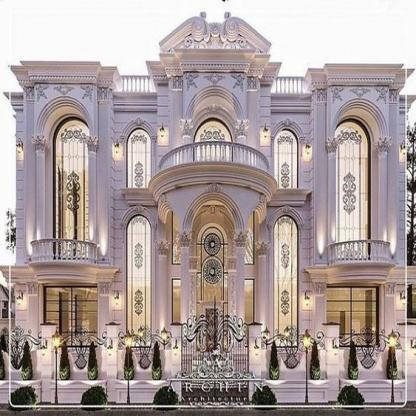Balcony: (157, 141, 269, 174), (30, 239, 99, 264), (327, 240, 390, 265), (120, 76, 155, 92), (271, 77, 307, 92)
Building Outline: (1, 11, 416, 391)
Cornice: (146, 50, 282, 74), (309, 63, 415, 80), (7, 61, 117, 75), (269, 118, 305, 144), (268, 205, 304, 231), (113, 92, 157, 111), (120, 118, 156, 140), (120, 205, 156, 227), (270, 93, 311, 112), (2, 92, 24, 112), (400, 94, 415, 115)
Deco: (158, 11, 272, 54), (203, 73, 226, 86), (78, 85, 94, 103), (229, 73, 245, 91), (349, 87, 372, 99), (374, 87, 389, 105), (330, 86, 344, 105), (35, 84, 49, 103), (184, 72, 198, 91), (53, 84, 75, 95)
Door: (201, 302, 224, 349)
Facade: (1, 11, 415, 387)
Glass Wall: (332, 122, 367, 259), (56, 121, 91, 258), (197, 223, 228, 349), (127, 216, 151, 346), (274, 217, 297, 347), (47, 288, 97, 345), (327, 288, 376, 345), (194, 121, 232, 177)
Molding: (153, 61, 275, 83), (18, 75, 112, 87), (311, 76, 405, 88)
Pillar: (35, 146, 46, 263), (87, 146, 97, 266), (378, 147, 388, 262), (327, 147, 336, 264), (256, 256, 267, 348), (236, 249, 245, 340), (180, 248, 188, 337), (159, 257, 167, 342), (237, 136, 246, 174), (182, 135, 190, 171)
Sill: (273, 189, 314, 196), (120, 189, 154, 195)
Window: (128, 129, 151, 188), (274, 131, 297, 189), (243, 212, 254, 263), (173, 211, 183, 263), (243, 280, 254, 324), (173, 280, 183, 323)
